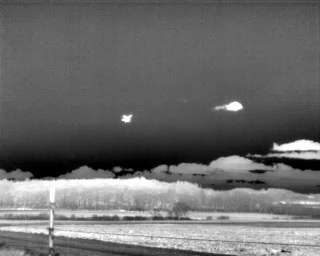DRONE: (118, 109, 137, 127)
